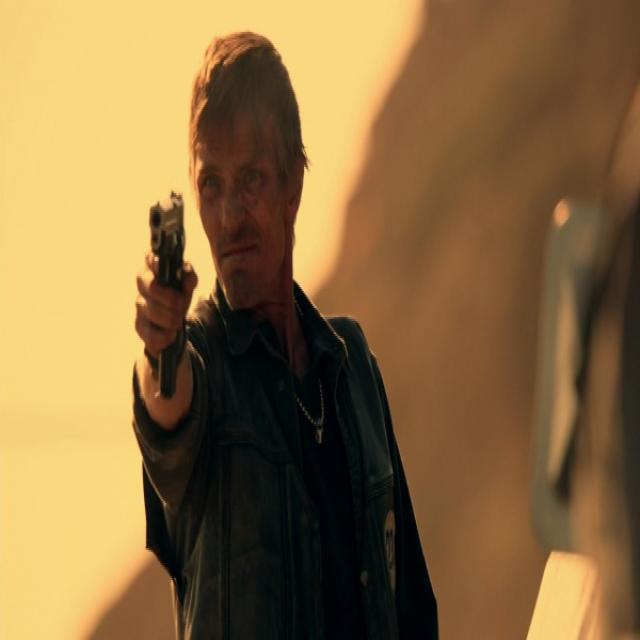weapons: (118, 170, 206, 400)
